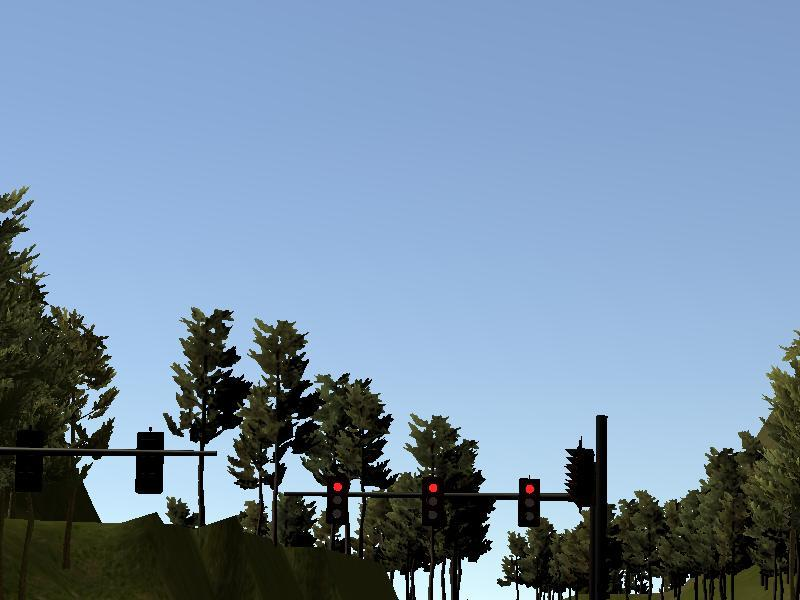Red: (326, 477, 347, 526), (422, 479, 442, 530), (520, 478, 540, 529)
